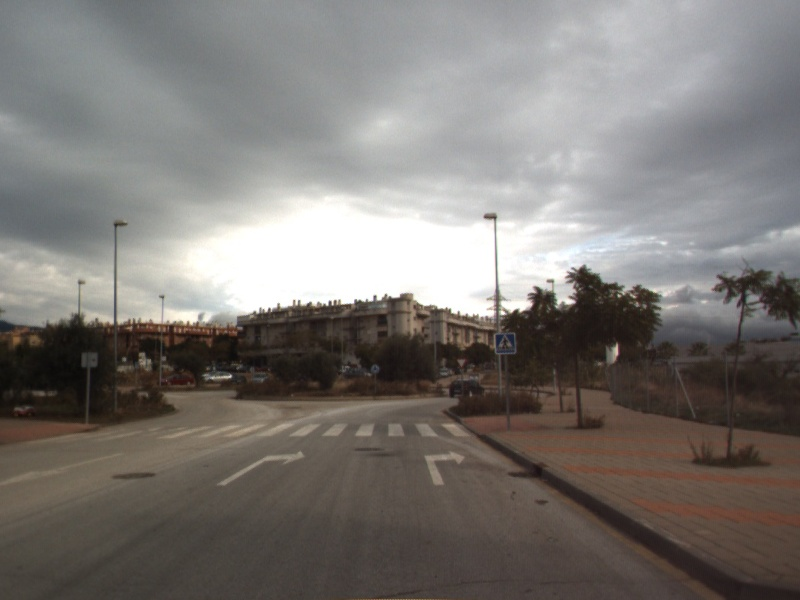RIGHT: (215, 448, 307, 487), (422, 448, 467, 487)
